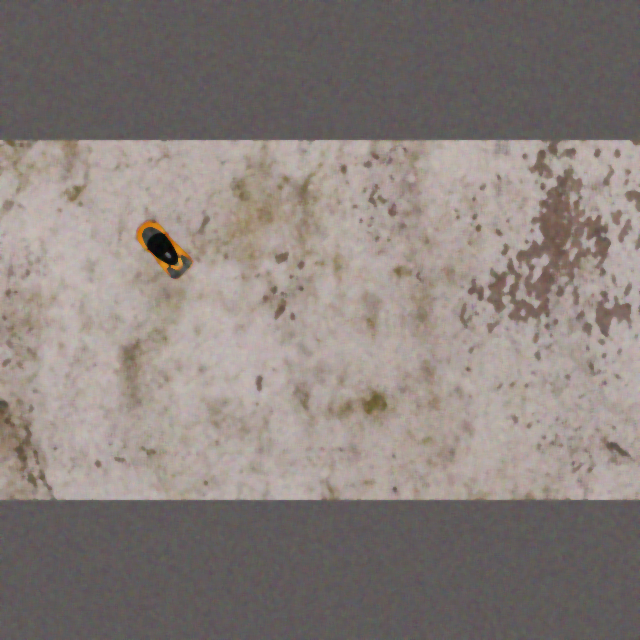car: (127, 213, 199, 284)
